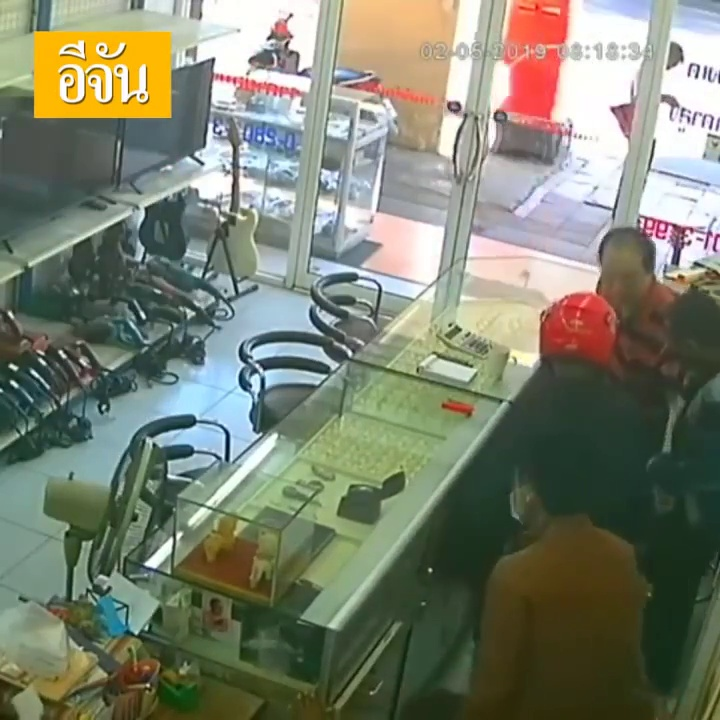helmet: (536, 277, 620, 386)
